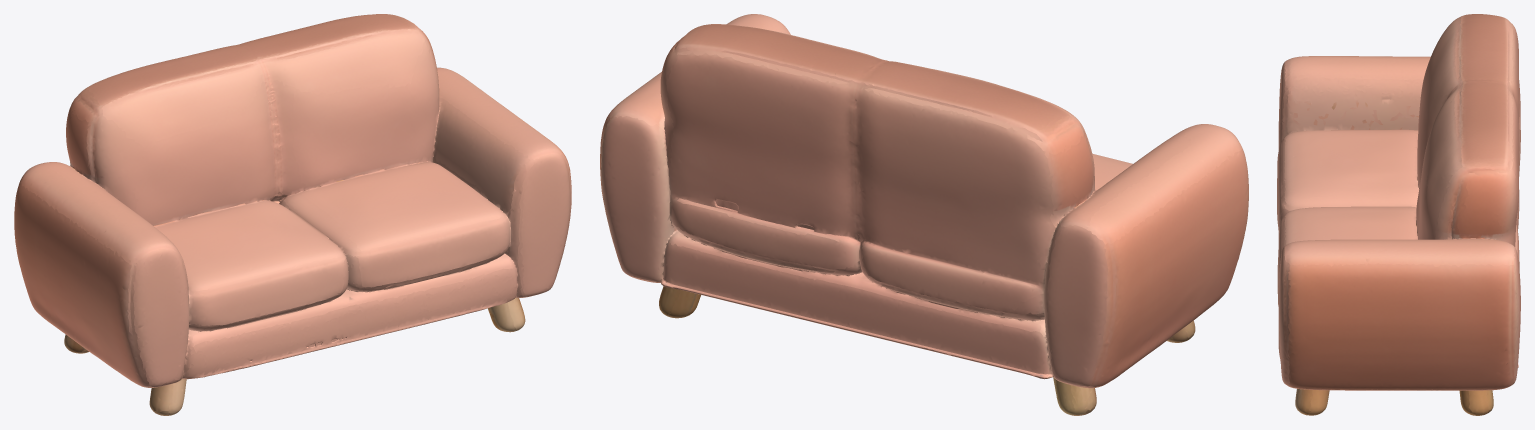
File: fur_sofa_pastel_01.glb
The picture shows the model from 3 angles, left to right: view 1: azimuth 30°, elevation 25°; view 2: azimuth 150°, elevation 25°; view 3: azimuth 270°, elevation 25°; orthographic projection. The views are drawn at different scales.
Visible parts, largest first — view 1: geometry_0; view 2: geometry_0; view 3: geometry_0.
Part boxes in pixels (x1,y1,x2,y2): geometry_0: (14, 14, 571, 415); geometry_0: (600, 14, 1248, 415); geometry_0: (1277, 14, 1520, 415).
Size of the model in its own units: 1.6 by 0.8766 by 0.7681.
1 material, 1 textured.
